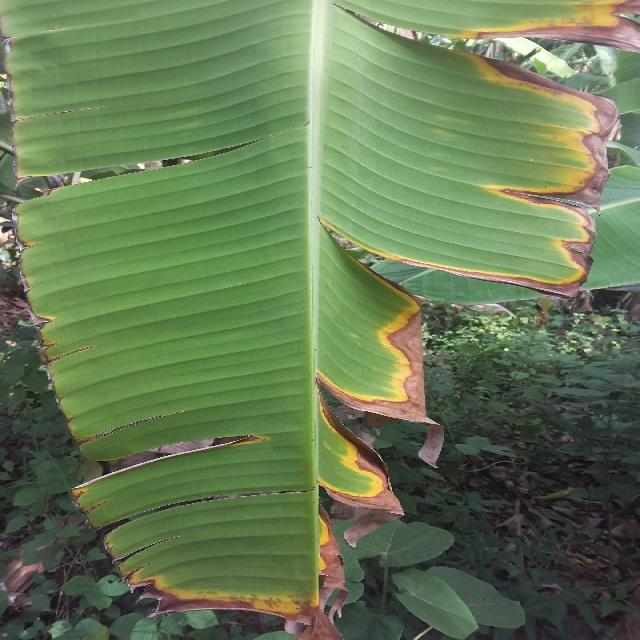Cordana: (290, 0, 640, 640), (0, 0, 162, 551), (89, 549, 378, 640), (88, 383, 265, 480)
